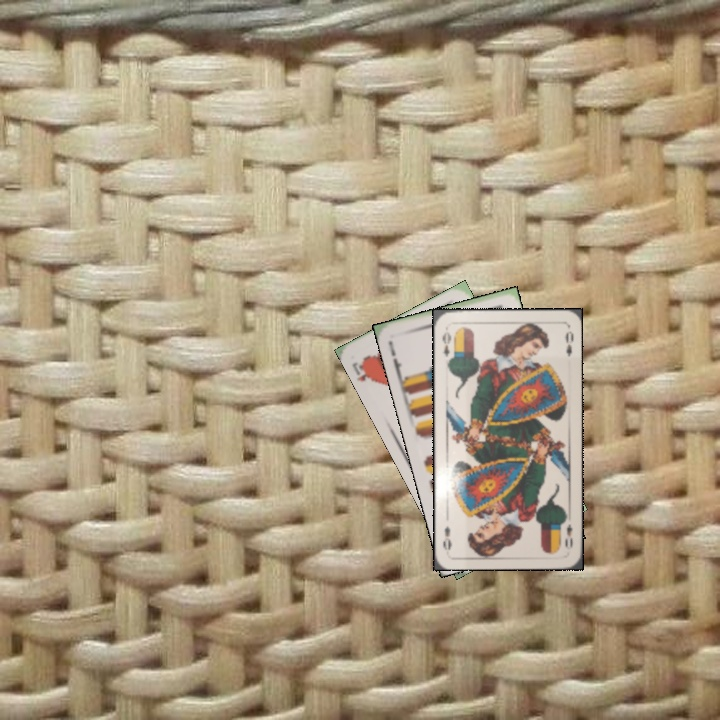E7: (384, 337, 404, 376)
EO: (438, 328, 453, 360), (561, 520, 575, 552)
HO: (348, 354, 376, 384)
